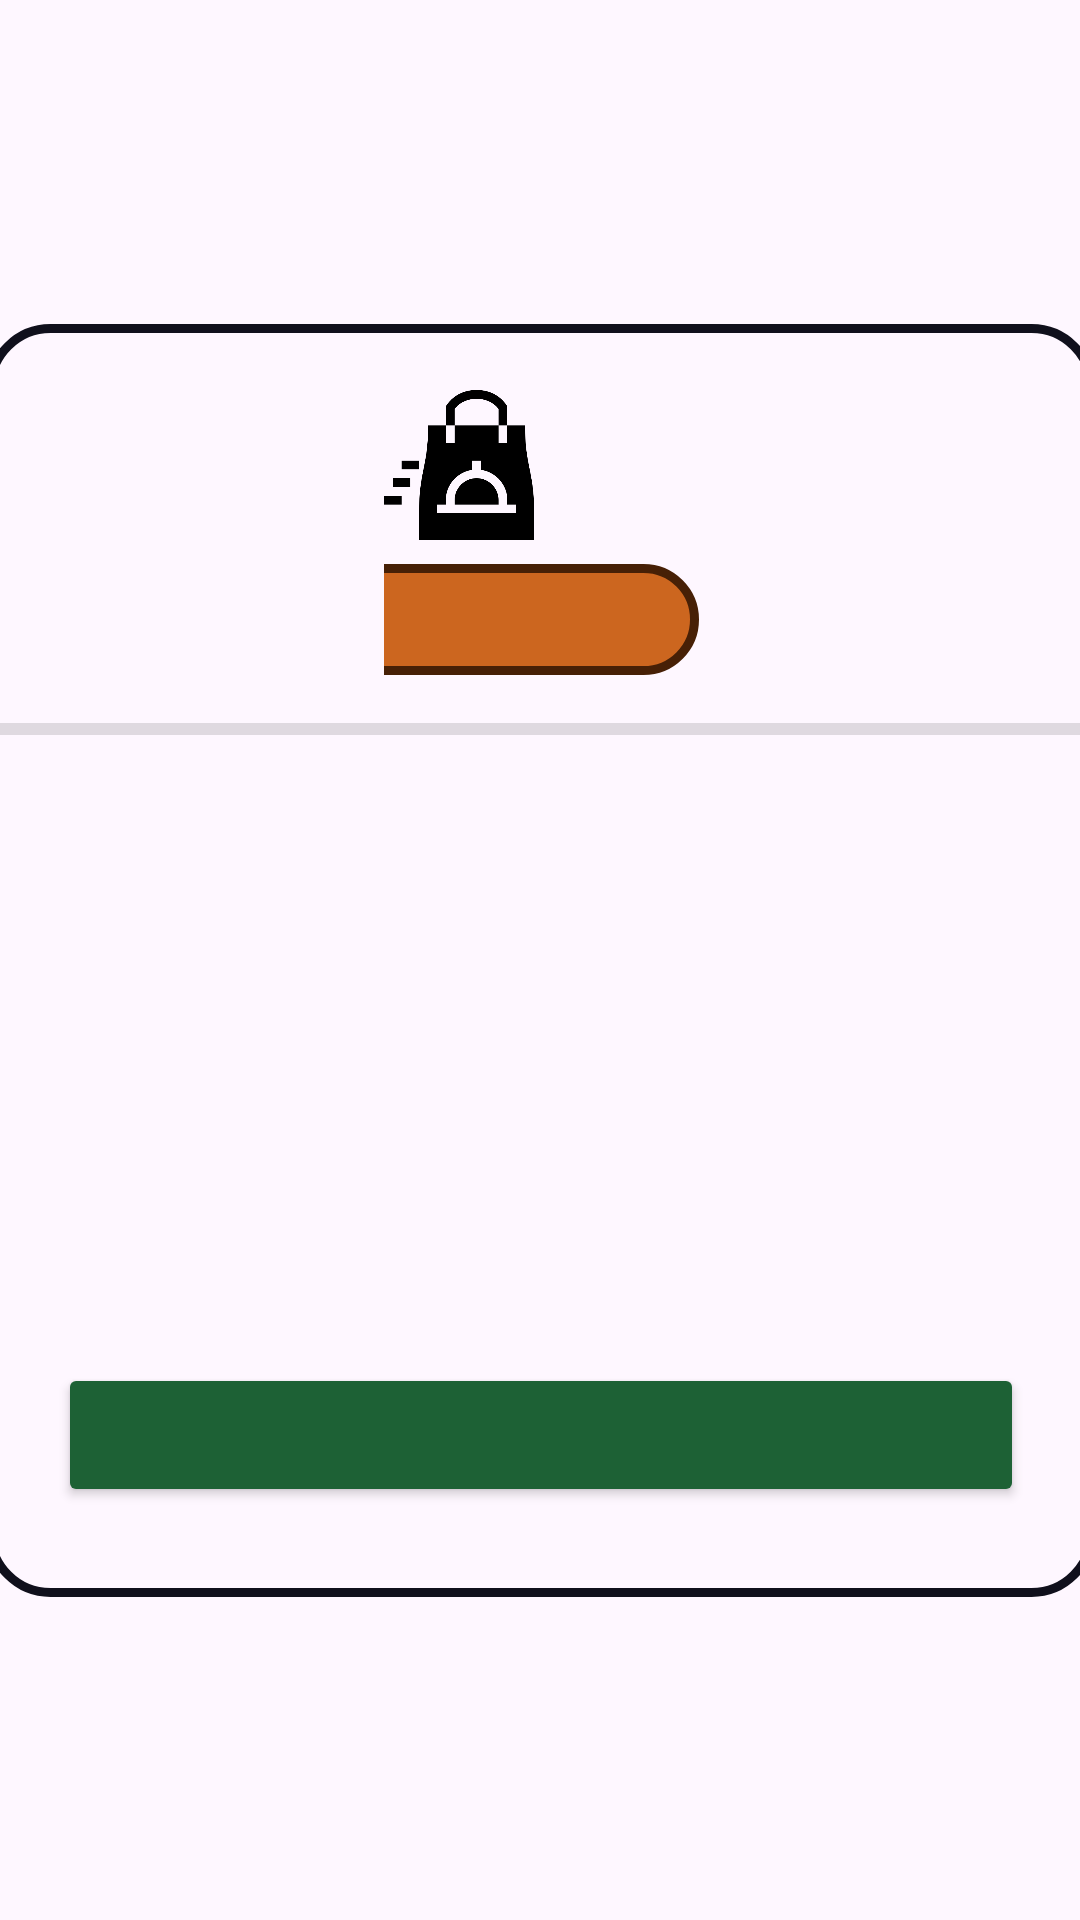

Icon click points for this 1080px×1920px phone screenshot, format (x,y):
fast delivery: (459,465)
